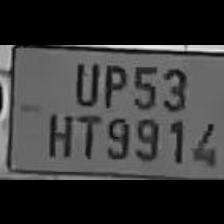1: (162, 113, 188, 163)
3: (158, 62, 188, 110)
4: (188, 114, 218, 164)
5: (127, 60, 158, 108)
9: (130, 110, 160, 160), (102, 110, 130, 160)
H: (41, 108, 72, 158)
P: (99, 58, 127, 108)
T: (72, 110, 100, 158)
U: (68, 56, 99, 104)
